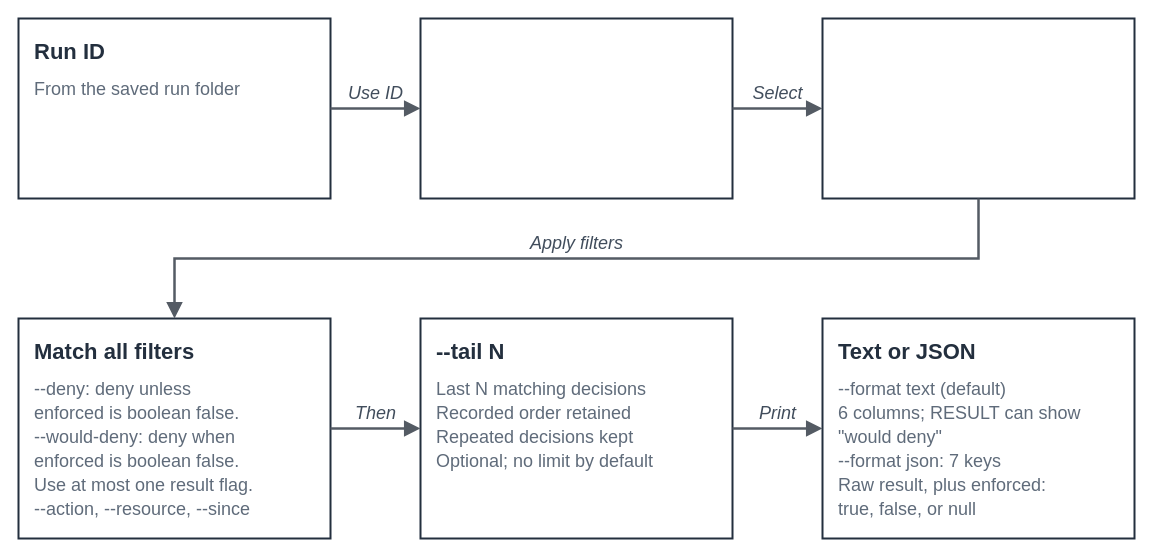
The diagram is 1152 pixels wide and 556 high, and some of its shapes have lost their labels. Here are the shapes that lost their labels. From the top down, the centre of each, then its label:
[576,108]: box runs history <box-id> Read the saved run log: records.jsonl
[978,108]: Policy decisions Select recorded decisions. Skip other log events.
